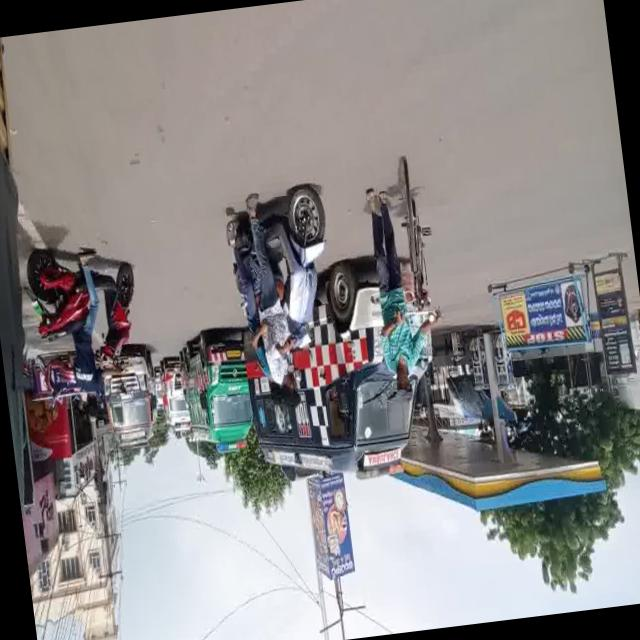ambulance: (254, 293, 426, 472), (181, 332, 256, 451), (99, 329, 162, 462), (159, 362, 185, 429)
